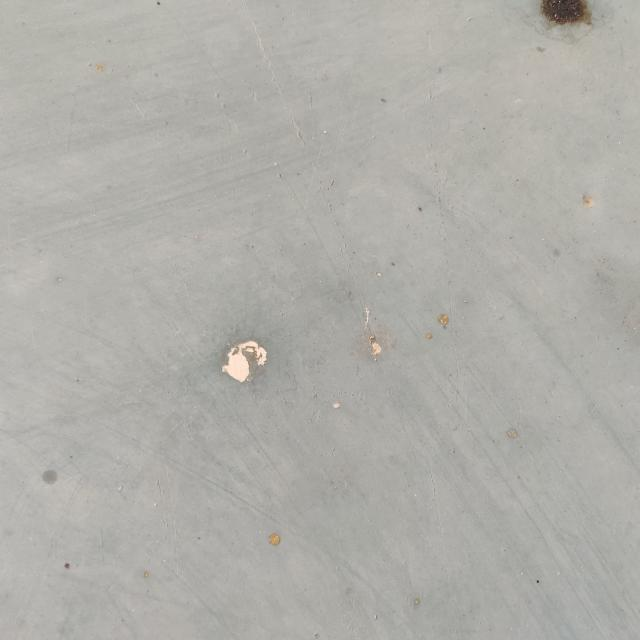paint-off: (203, 318, 284, 406)
